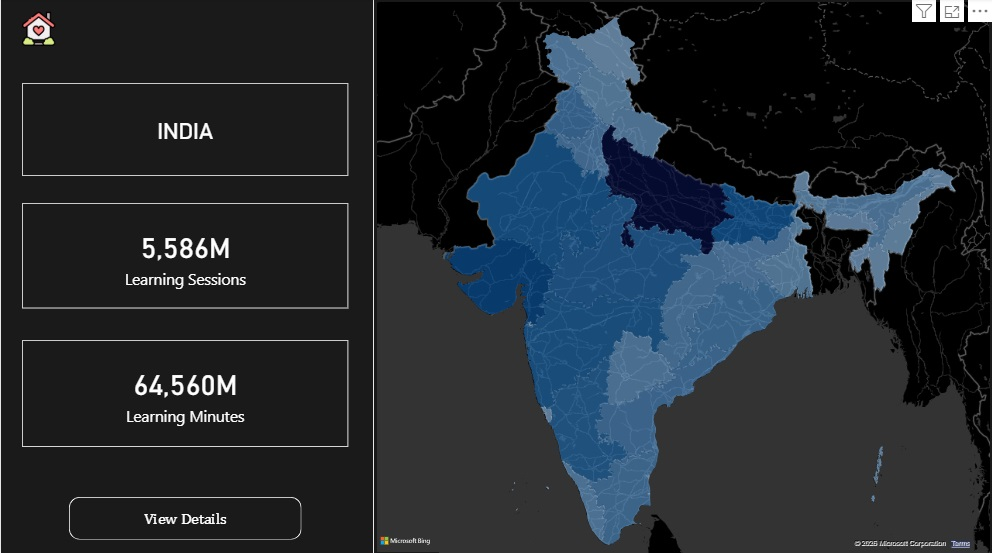

Layout of this report page (visuals, bound fields, positions):
{"tool":"powerbi","page":{"name":"Usage Metrics","canvas":[1280,720],"ordinal":3},"visuals":[{"type":"filledMap","title":"State wise Usage Metrics","fields":{"Category":["Registered_Users_States.State/UT"]},"box":[480,0,800,720],"z":0},{"type":"card","fields":{"Values":["Registered_Users_States.Selected State"]},"box":[27.5,110.1,421.2,119.7],"z":1000},{"type":"card","fields":{"Values":["Sum(state_usage_summary.Learning Sessions)"]},"box":[27.5,264.3,421.2,136.3],"z":2000},{"type":"card","fields":{"Values":["Sum(state_usage_summary.Learning Minutes)"]},"box":[27.5,441.8,421.2,137.6],"z":3000},{"type":"image","box":[26.8,16.4,43.2,46.1],"z":4000},{"type":"shape","box":[88.1,644.1,300,55.1],"z":5000}]}

Visuals, with their boxes in screenshot pixels (x1, y1, x2, y2), scaled from the page's 1280x720 canvas onto the 992x553 screenshot:
"State wise Usage Metrics" filledMap: 372, 0, 991, 552
card - Registered_Users_States.Selected State: 21, 85, 348, 176
card - Sum(state_usage_summary.Learning Sessions): 21, 203, 348, 308
card - Sum(state_usage_summary.Learning Minutes): 21, 339, 348, 445
image: 21, 13, 54, 48
shape: 68, 495, 301, 537
